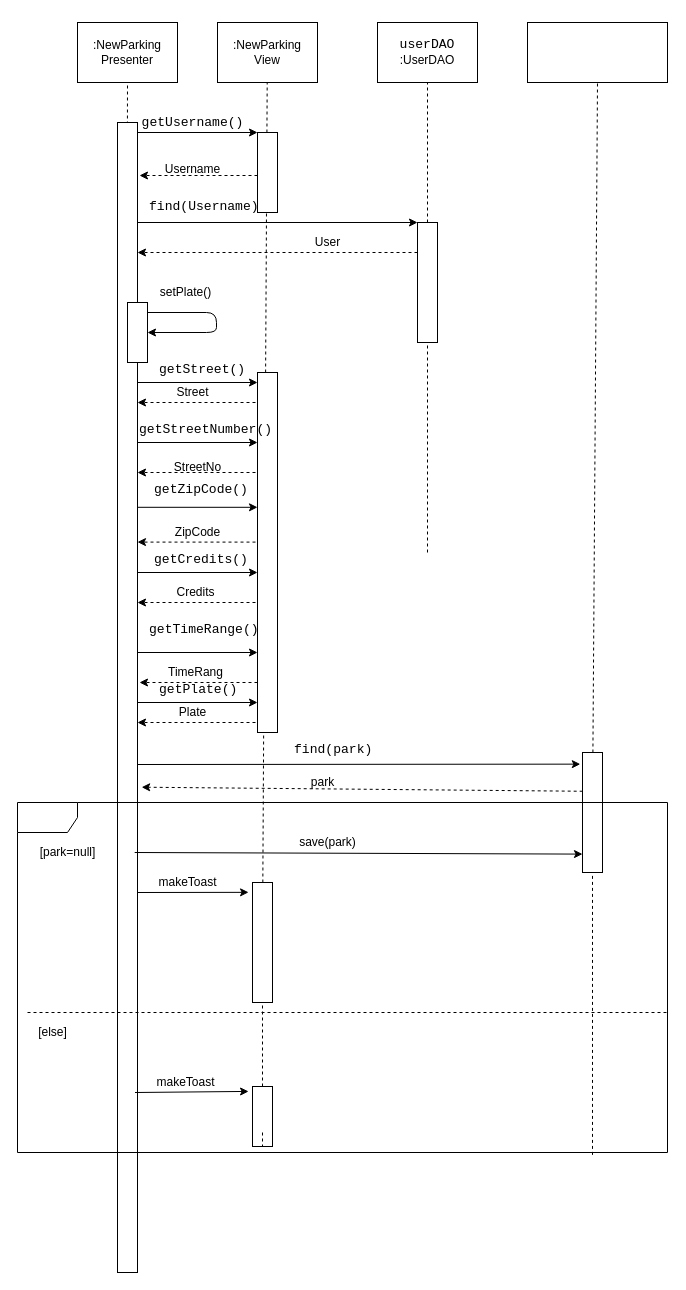
The diagram is 686 pixels wide and 1290 high, and some of its shapes have lost their labels. The shapes that lost their labels are listed below. From the top down, each one's box as (x1, y1, x2, y2) in pixels, then its label:
(526, 22, 668, 82): parkingDAO :ParkingSpaceDAO
(16, 802, 668, 1152): alt
